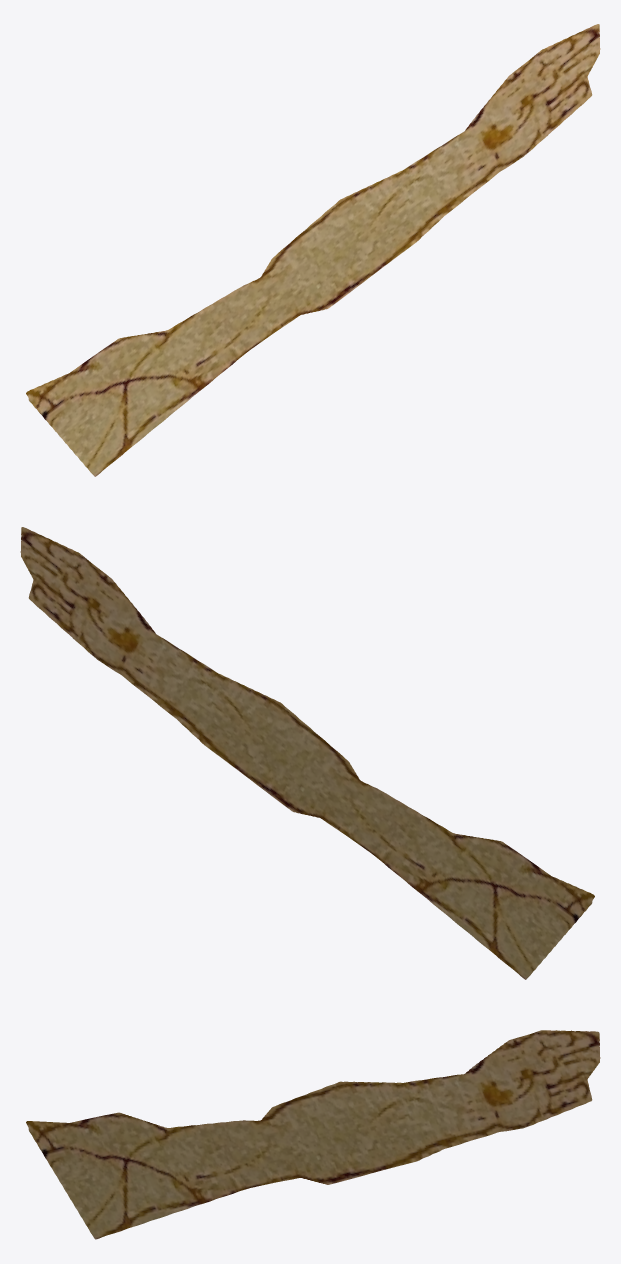
Rendered from arm_Rupper.fbx.
3 renders of one model, top to bottom at view 1: azimuth 30°, elevation 25°; view 2: azimuth 150°, elevation 25°; view 3: azimuth 330°, elevation 25°, orthographic.
Visible parts, largest first — view 1: arm_Rupper; view 2: arm_Rupper; view 3: arm_Rupper.
Boxes of the visible parts, x1=… form: arm_Rupper: x1=26, y1=24, x2=600, y2=476; arm_Rupper: x1=20, y1=527, x2=594, y2=979; arm_Rupper: x1=26, y1=1030, x2=600, y2=1239.
Size of the model in its own units: 135 by 75.76 by 1.22e-05.
